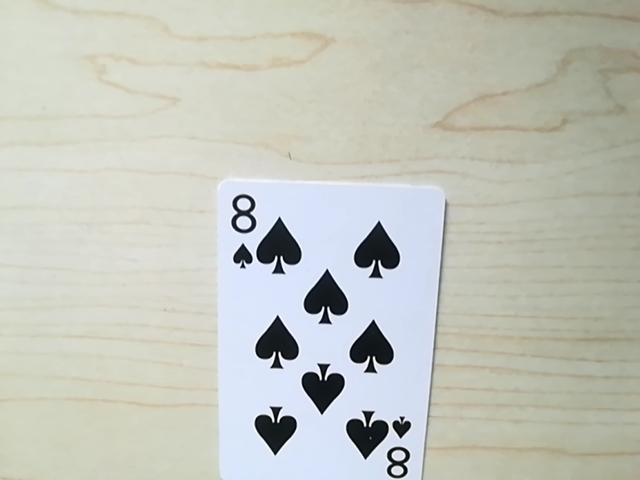ht 8: (222, 186, 266, 268), (376, 424, 418, 480)
